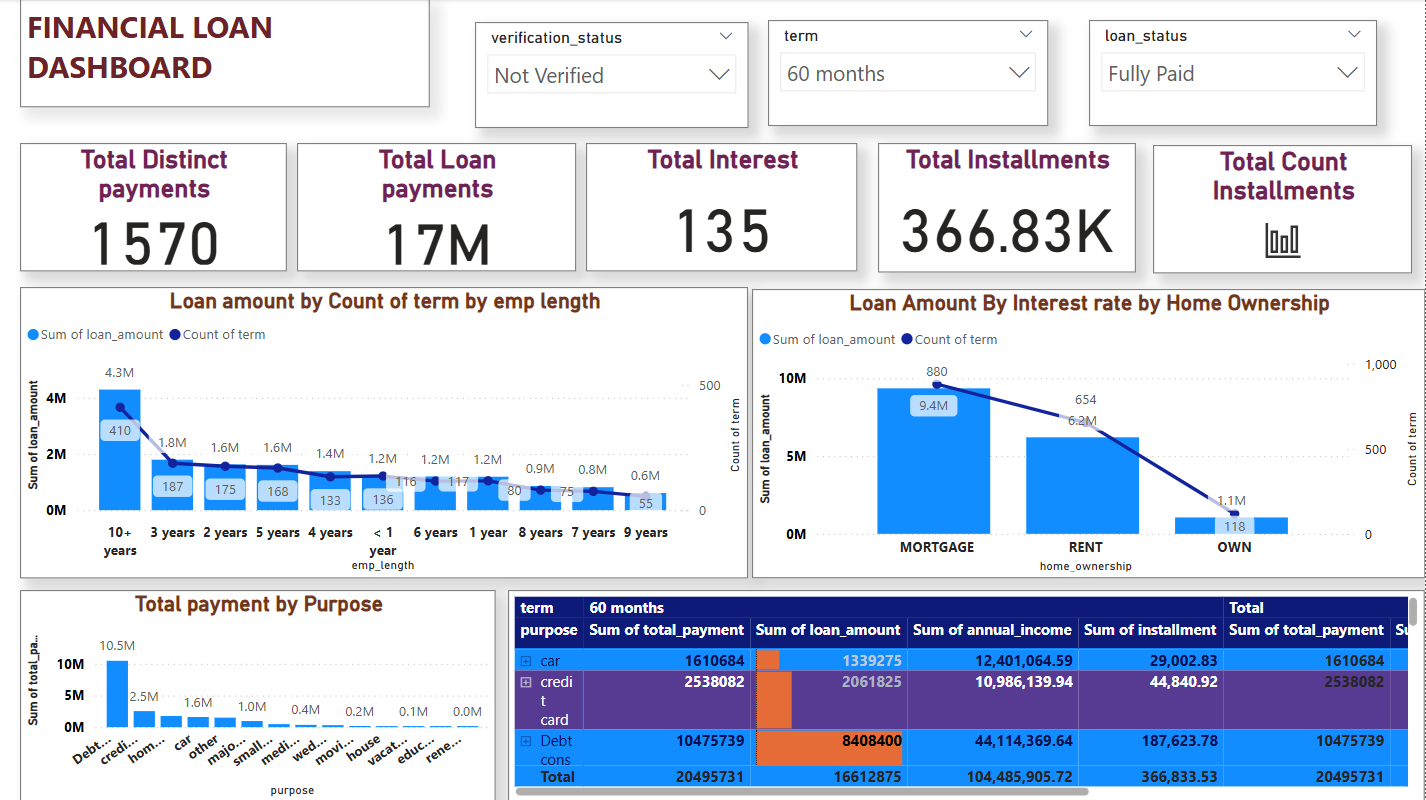

What the dashboard file says about the page in this screenshot:
{"tool":"powerbi","page":{"name":"Page 1","canvas":[1280,720],"ordinal":0},"visuals":[{"type":"textbox","box":[22.3,0,367.4,97],"z":0},{"type":"slicer","fields":{"Values":["financial_loan.verification_status"]},"box":[429.5,20.7,245,95.4],"z":1000},{"type":"slicer","fields":{"Values":["financial_loan.term"]},"box":[691.9,19.1,251.3,95.4],"z":2000},{"type":"slicer","fields":{"Values":["financial_loan.loan_status"]},"box":[979.8,19.1,257.7,95.4],"z":3000},{"type":"card","title":"Total Distinct payments","fields":{"Values":["Count(financial_loan.total_payment)"]},"box":[22.3,128.8,238.6,114.5],"z":4000},{"type":"card","title":"Total Loan payments","fields":{"Values":["Sum(financial_loan.loan_amount)"]},"box":[270.4,128.8,249.7,114.5],"z":5000},{"type":"card","title":"Total Interest","fields":{"Values":["Count(financial_loan.int_rate)"]},"box":[529.7,128.8,243.4,114.5],"z":6000},{"type":"card","title":"Total Installments","fields":{"Values":["Sum(financial_loan.installment)"]},"box":[790.5,128.8,230.6,116.1],"z":7000},{"type":"lineClusteredColumnComboChart","title":"Total Count Installments","fields":{"Y":["Count(financial_loan.installment)"]},"box":[1037.1,130.4,232.2,114.5],"z":8000},{"type":"lineClusteredColumnComboChart","title":"Loan amount by Count of term by emp length","fields":{"Y2":["CountNonNull(financial_loan.term)"],"Y":["Sum(financial_loan.loan_amount)"],"Category":["financial_loan.emp_length"]},"box":[22.3,257.7,652.2,260.9],"z":9000},{"type":"lineClusteredColumnComboChart","title":"Loan Amount By Interest rate by  Home Ownership","fields":{"Category":["financial_loan.home_ownership"],"Y":["Sum(financial_loan.loan_amount)"],"Y2":["CountNonNull(financial_loan.term)"]},"box":[677.6,259.3,602.8,259.3],"z":10000},{"type":"columnChart","title":"Total payment by Purpose","fields":{"Category":["financial_loan.purpose"],"Y":["Sum(financial_loan.total_payment)"]},"box":[22.3,529.7,426.3,190.9],"z":11000},{"type":"pivotTable","fields":{"Rows":["financial_loan.purpose","financial_loan.verification_status"],"Values":["Sum(financial_loan.total_payment)","Sum(financial_loan.loan_amount)","Sum(financial_loan.annual_income)","Sum(financial_loan.installment)"],"Columns":["financial_loan.term"]},"box":[459.7,529.7,820.8,190.9],"z":12000}]}

Visuals, with their boxes in screenshot pixels (x1, y1, x2, y2), scaled from the page's 1280x720 canvas onto the 1426x800 screenshot:
textbox: region(25, 0, 434, 108)
slicer - financial_loan.verification_status: region(478, 23, 751, 129)
slicer - financial_loan.term: region(771, 21, 1051, 127)
slicer - financial_loan.loan_status: region(1092, 21, 1379, 127)
"Total Distinct payments" card: region(25, 143, 291, 270)
"Total Loan payments" card: region(301, 143, 579, 270)
"Total Interest" card: region(590, 143, 861, 270)
"Total Installments" card: region(881, 143, 1138, 272)
"Total Count Installments" lineClusteredColumnComboChart: region(1155, 145, 1414, 272)
"Loan amount by Count of term by emp length" lineClusteredColumnComboChart: region(25, 286, 751, 576)
"Loan Amount By Interest rate by  Home Ownership" lineClusteredColumnComboChart: region(755, 288, 1425, 576)
"Total payment by Purpose" columnChart: region(25, 589, 500, 799)
pivotTable - financial_loan.purpose x financial_loan.verification_status: region(512, 589, 1425, 799)
